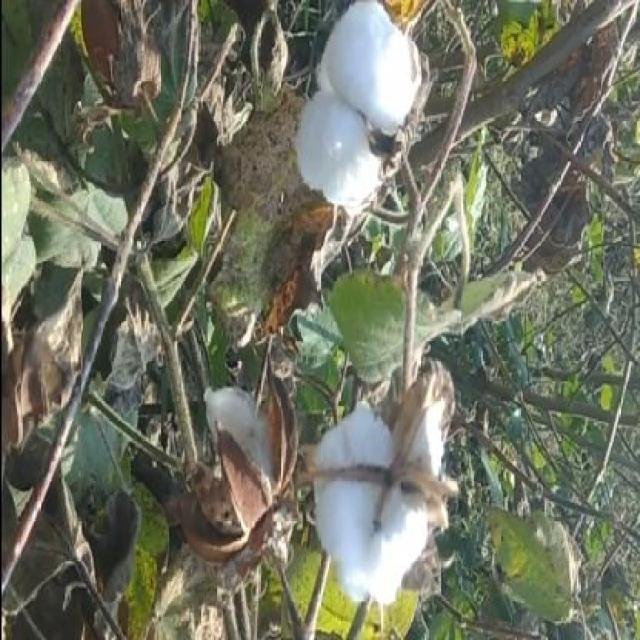cotton_ready: (291, 332, 475, 603), (270, 21, 441, 217)
